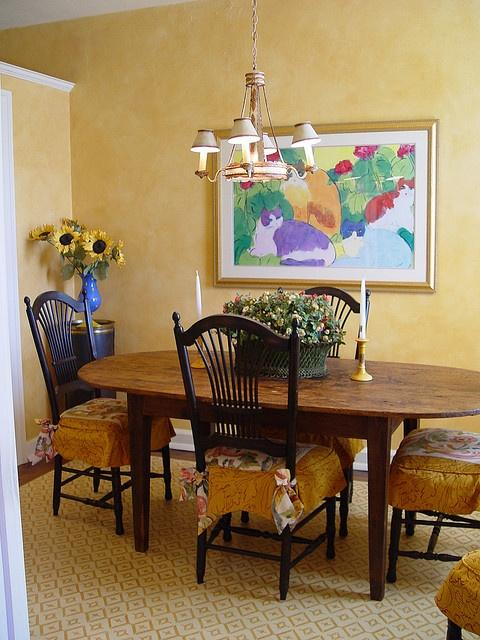Kursi: (171, 309, 337, 601), (22, 288, 173, 535)
Meja: (77, 348, 479, 601)
